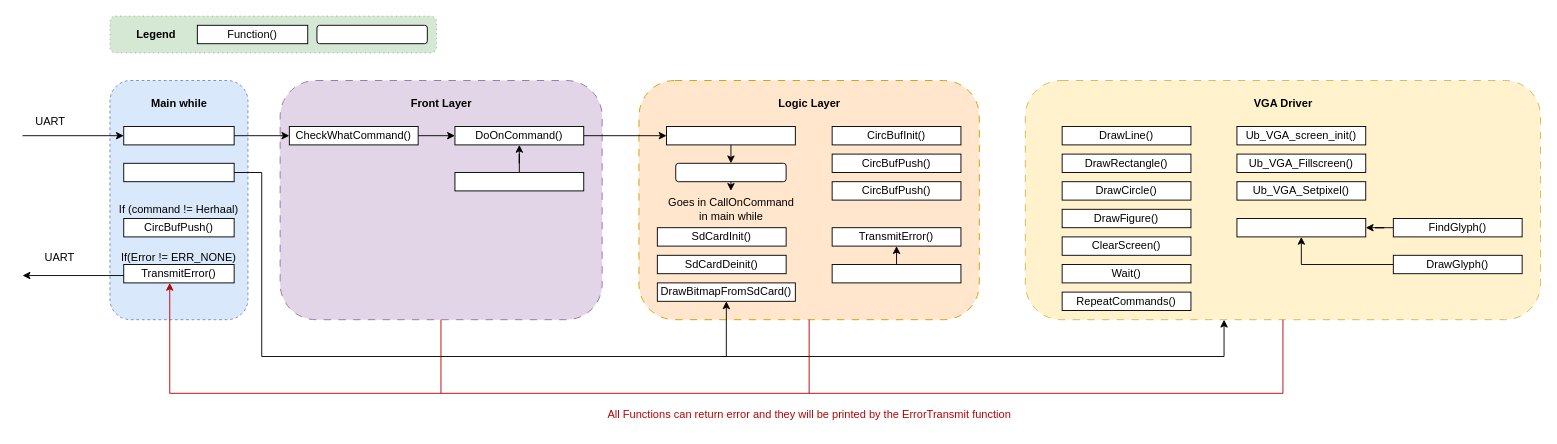
Some shapes in this 1557 by 444 pixel diagram are drawn without their labels. Here are the shapes that lost their labels. From the top down, the centre of each, then its label:
the point at 371,34: Struct
the point at 178,135: ParseOnKomma()
the point at 730,135: RecieveCommandXX()
the point at 178,172: CallCommand()
the point at 519,181: CheckWhatColor()
the point at 730,172: cmdBuf
the point at 1301,227: DrawText()
the point at 896,273: GetError()
